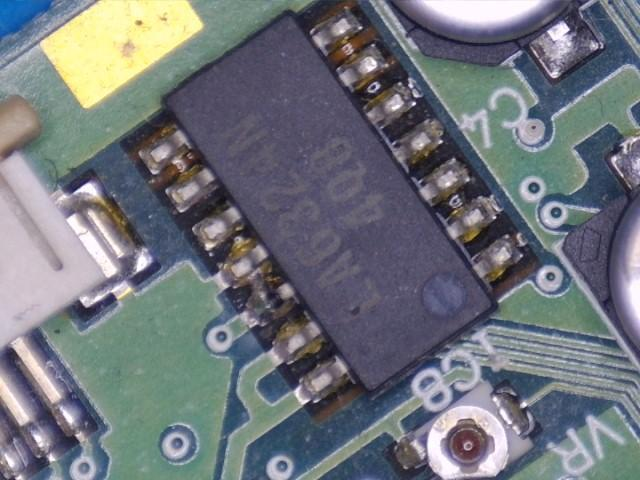Short_circuit: (233, 244, 297, 328)
